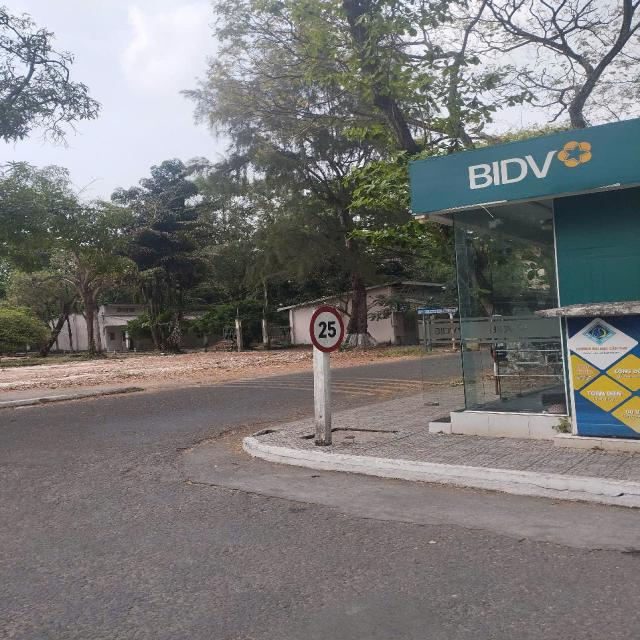Tre_Em: (309, 306, 347, 353)
